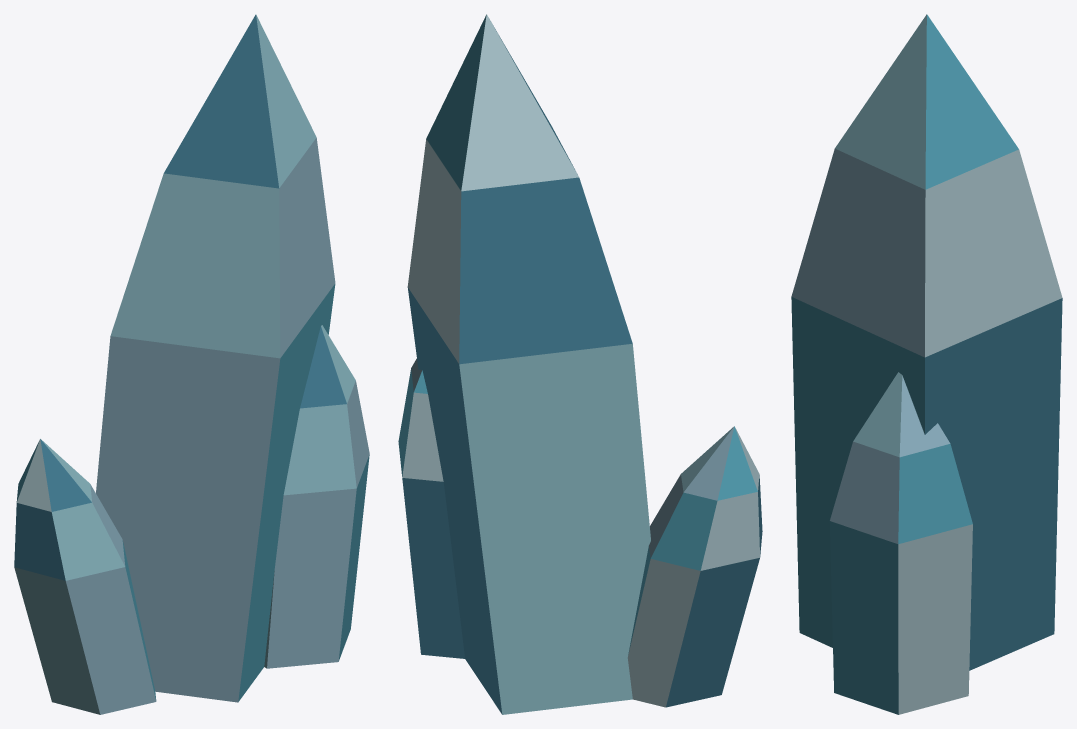
The model's file is blue-spire.glb.
3 renders of one model, left to right at view 1: azimuth 30°, elevation 25°; view 2: azimuth 150°, elevation 25°; view 3: azimuth 270°, elevation 25°, orthographic. The views are drawn at different scales.
Visible parts, largest first — view 1: blue-spire; view 2: blue-spire; view 3: blue-spire.
Boxes of the visible parts, x1,y1,x2,y2 form: blue-spire: (14, 14, 369, 714); blue-spire: (398, 14, 762, 714); blue-spire: (791, 14, 1062, 714).
Bounding box in the file's own units: 4.46 × 7.5 × 2.8.
